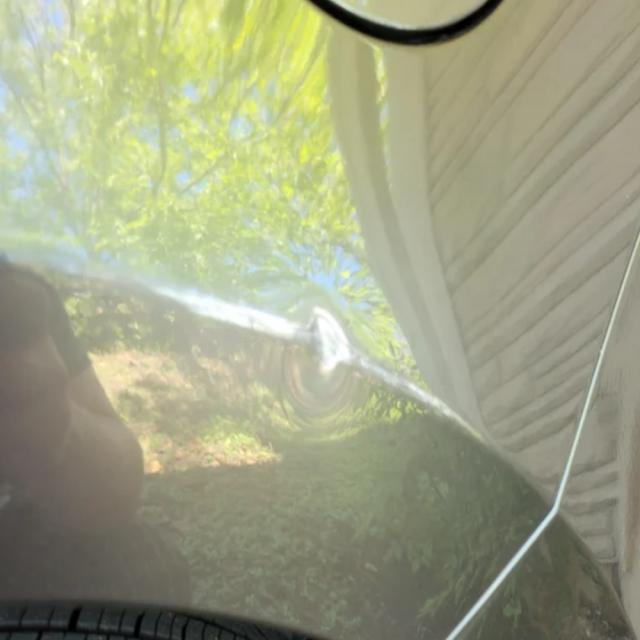dents: (276, 296, 354, 410)
